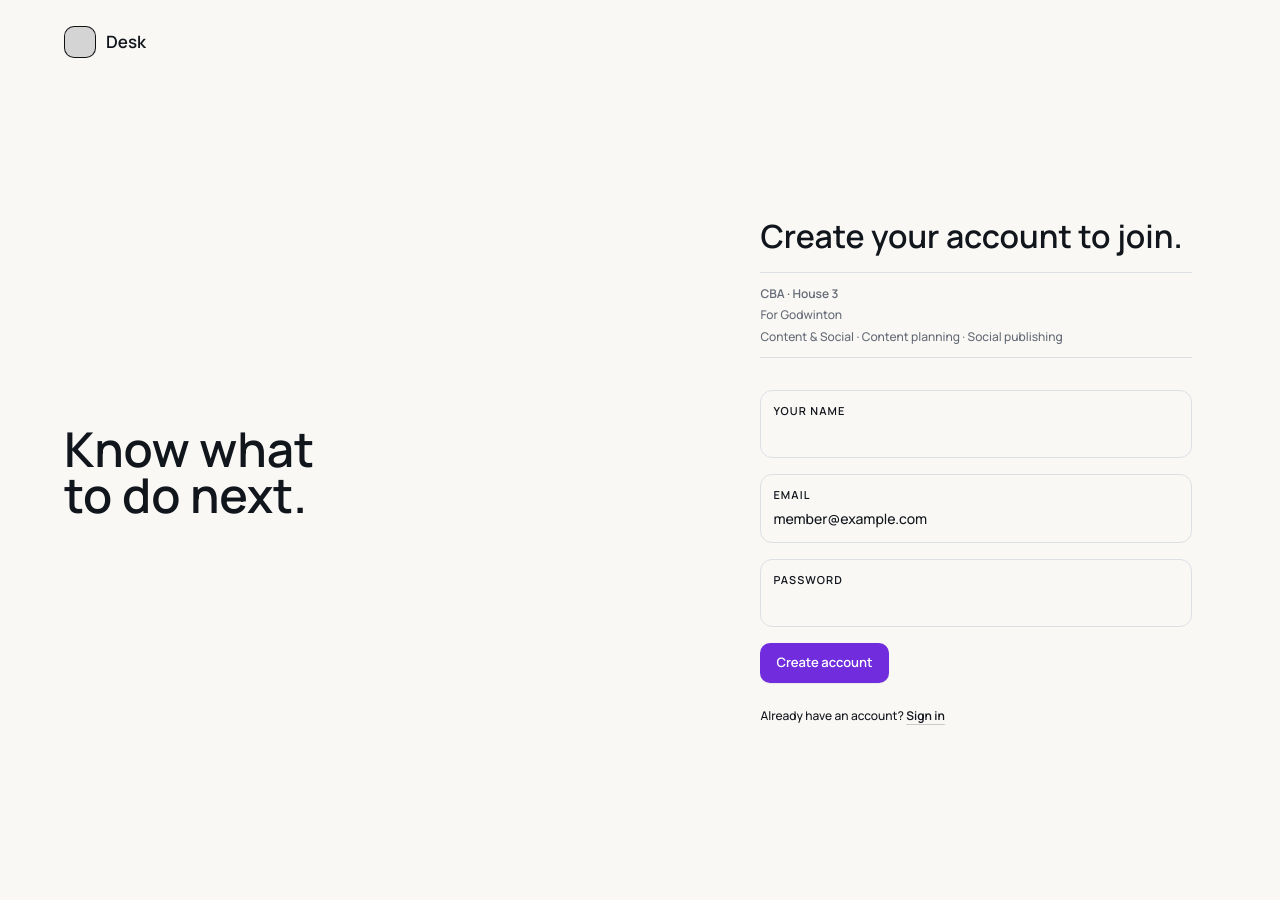
Test: FrontDoor human identity › starts invitees in account creation with a locked email and keeps it locked when switching to sign in
Expected: the heading "Create your account to join." is shown, x1=760 y1=220 x2=1192 y2=252
Expected: the field labelled "Email" holds "member@example.com", x1=773 y1=509 x2=1179 y2=530
Click the button "Sign in": click(926, 715) x1=906 y1=707 x2=945 y2=724
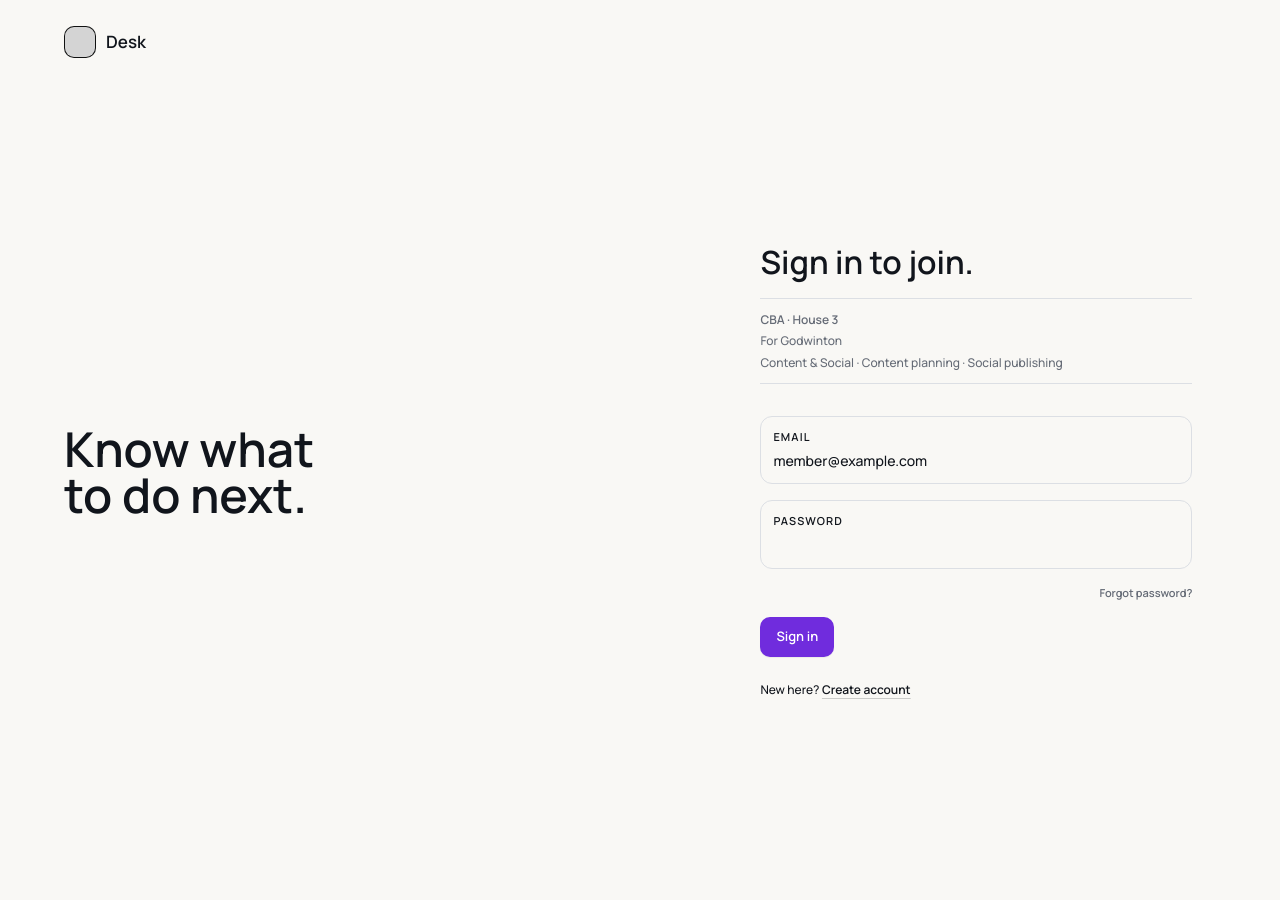
Expected: the field labelled "Email" holds "member@example.com", x1=773 y1=451 x2=1179 y2=471
Now the heading "Sign in to join." is shown, box x1=760 y1=240 x2=974 y2=284
Now the label labelled "Your name" is gone
